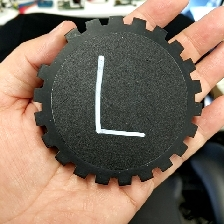gear: (31, 14, 204, 188)
missing: (37, 26, 80, 84)
